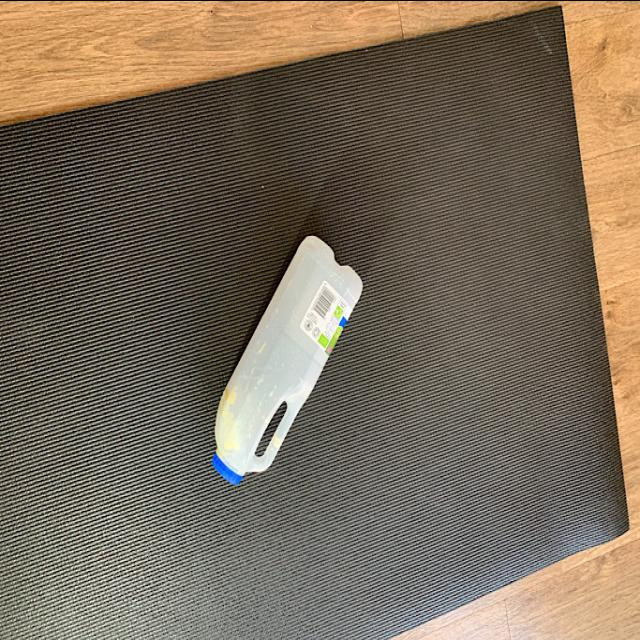HDPEM: (208, 231, 366, 485)
